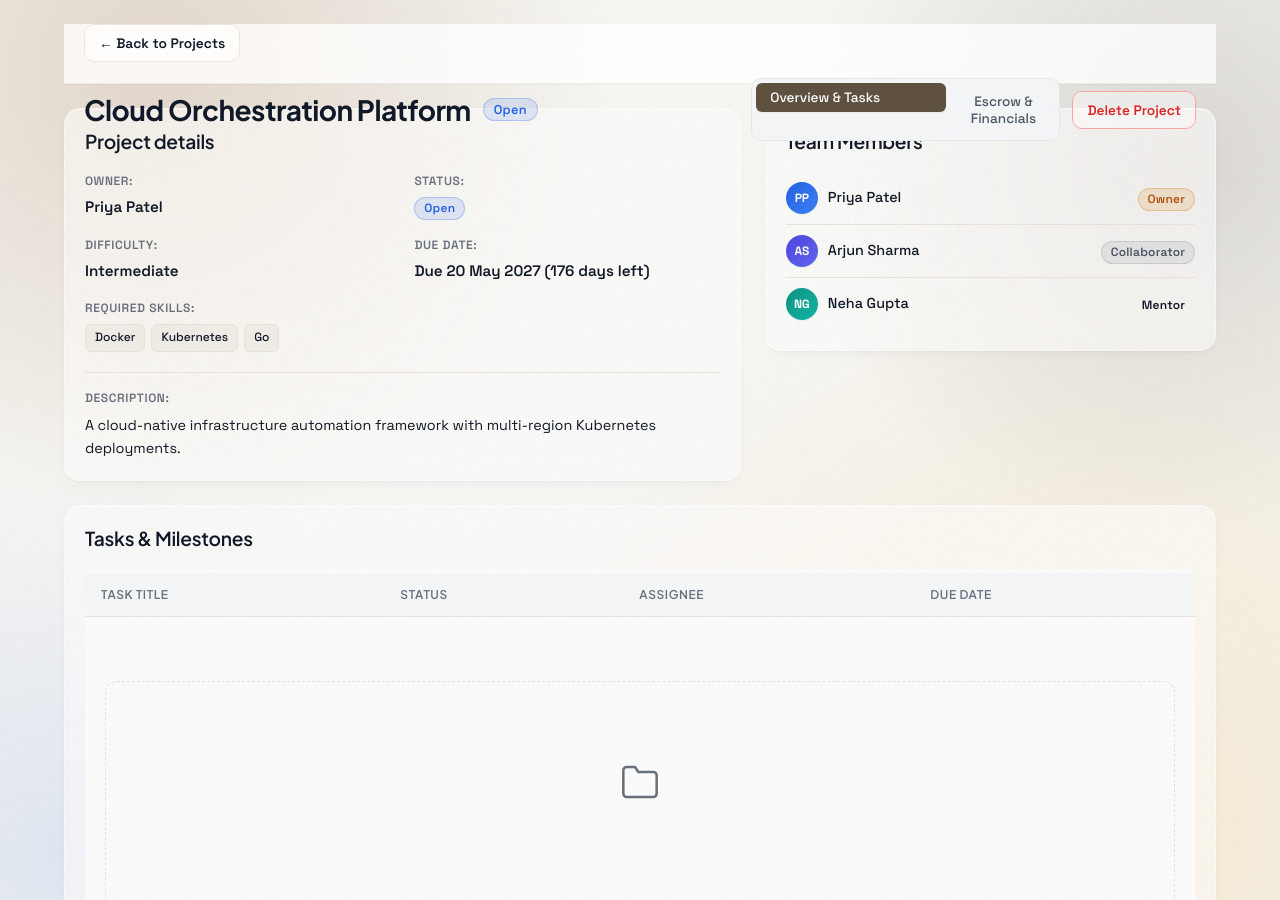
Scenario: AdminProjectDetails: Basic and Clean UI Enhancement › segmented tabs switch between Overview & Tasks and Escrow & Financials under the same header
Expected: the heading "Project details" is shown, [85,129,214,153]
Note: Switch to Escrow & Financials tab
Click the tab with test id "admin-project-escrow-tab". click: (1004, 110)
box: [952,83,1055,136]
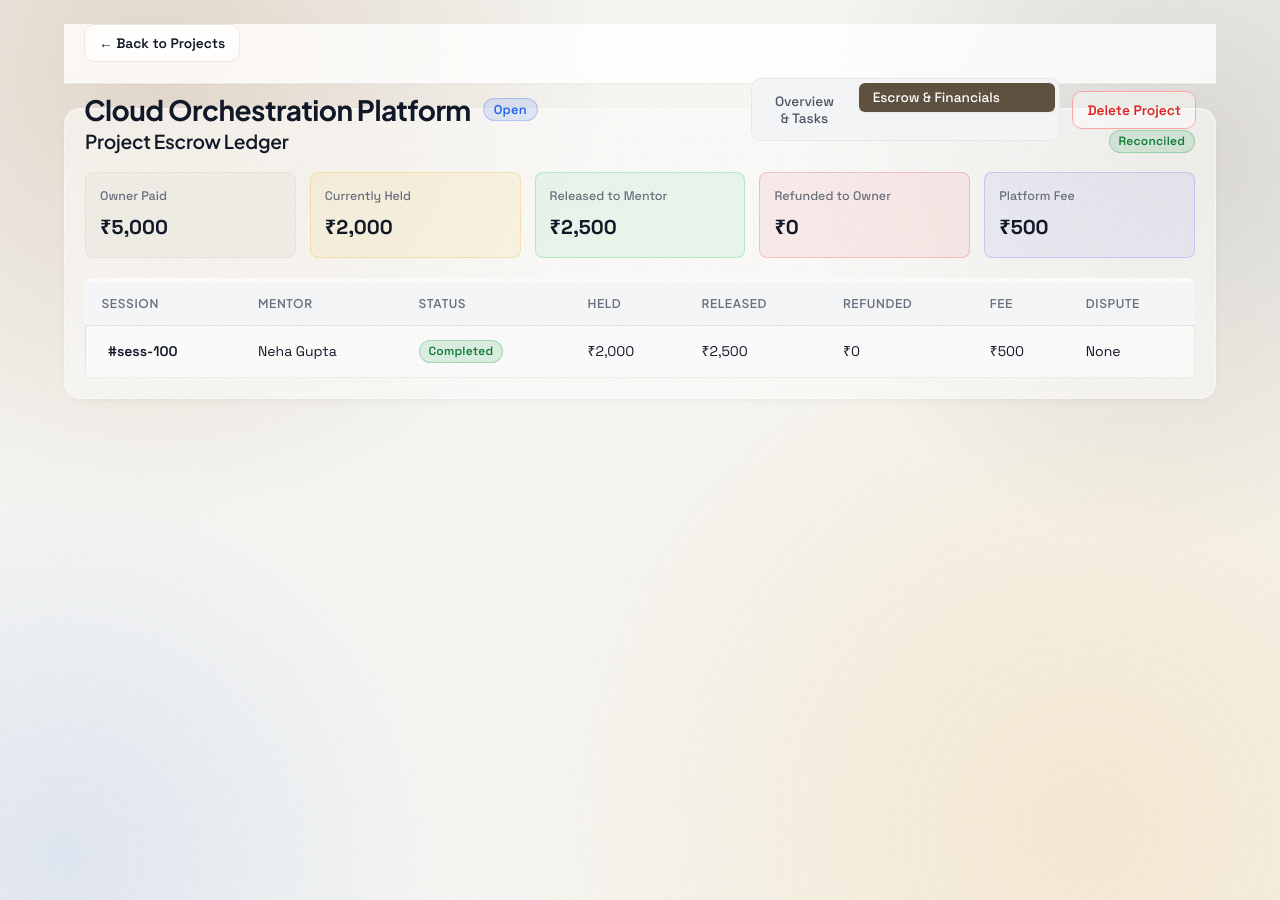
Expected: the element with test id "admin-project-escrow-panel" is shown, [64,108,1216,399]
Expected: the element with test id "admin-project-escrow-panel" shows "Project Escrow Ledger", [85,129,288,153]
Expected: the element with test id "admin-project-escrow-panel" shows "Reconciled", [1118,133,1185,149]
Note: Switch back to Overview & Tasks
Click the tab "Overview & Tasks". click: (804, 110)
box: [756,83,853,136]
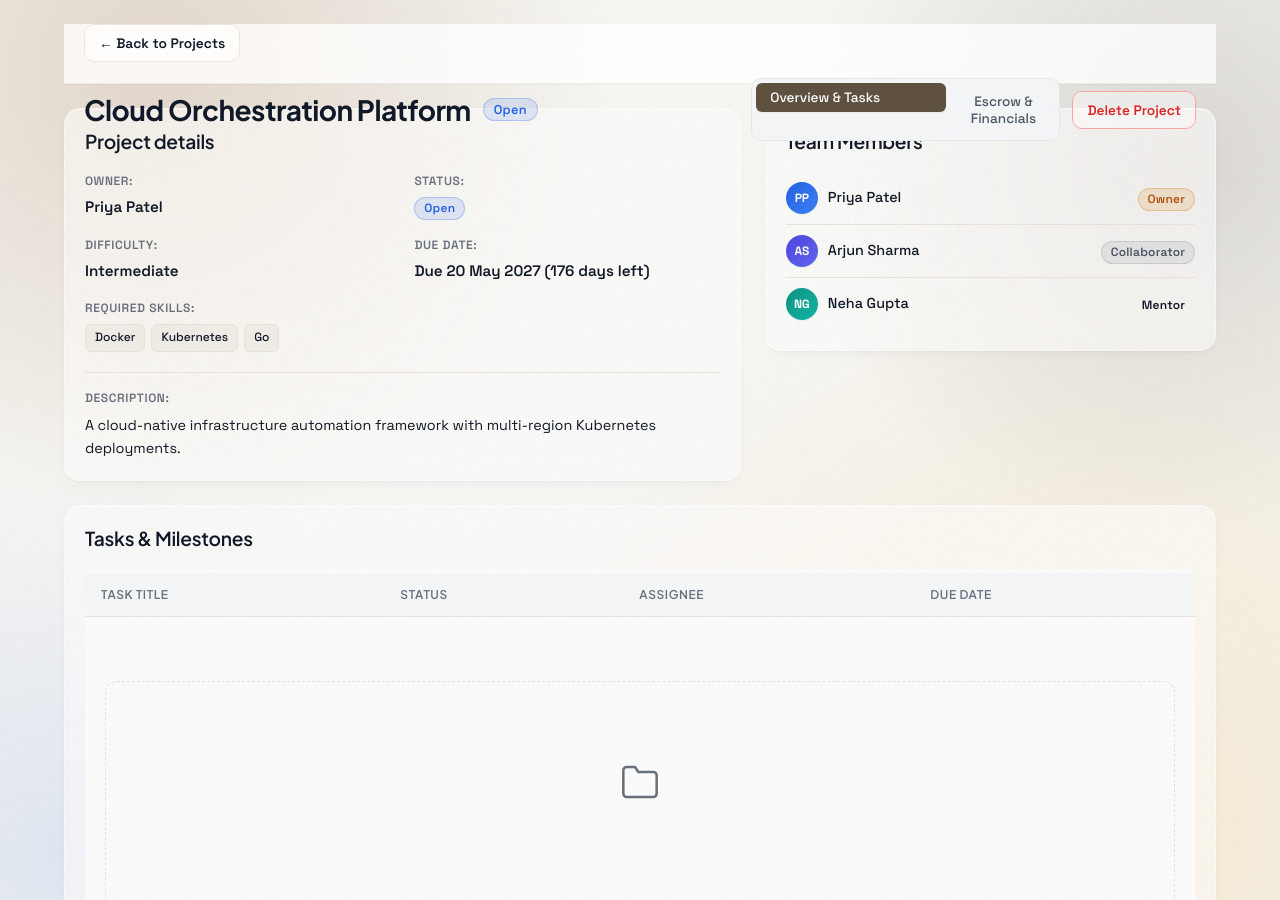
Expected: the heading "Project details" is shown, [85,129,214,153]
Expected: the element with test id "admin-project-escrow-panel" is gone
